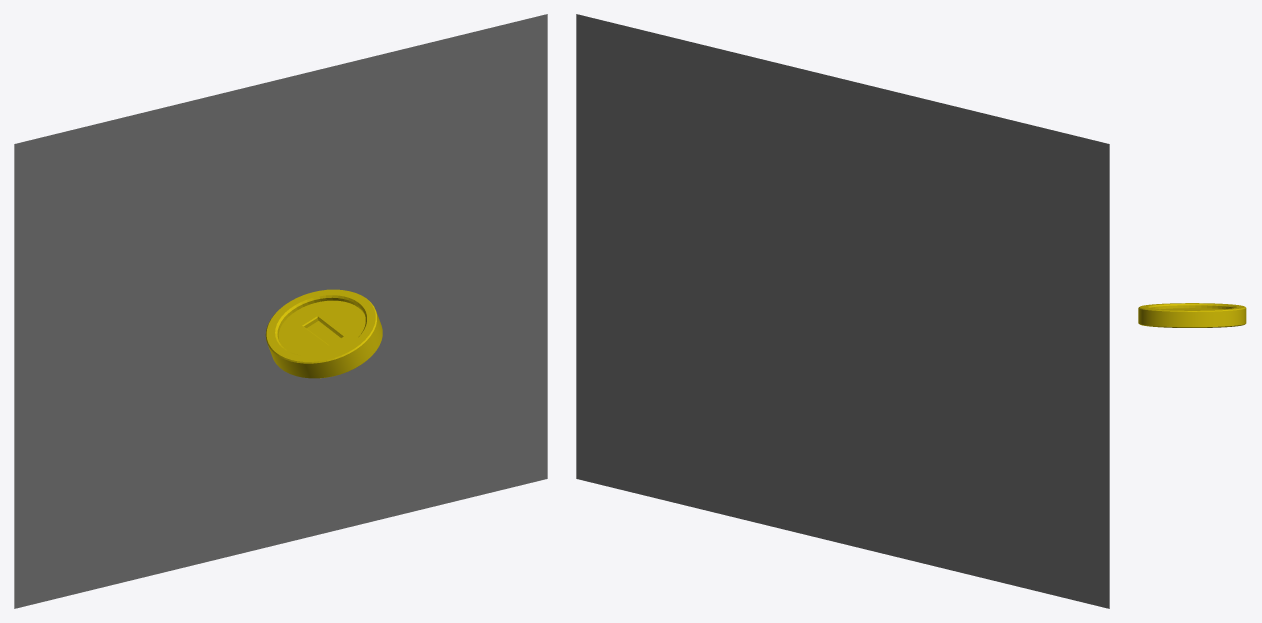
The model's file is MarioGold.fbx.
The picture shows the model from 3 angles, left to right: view 1: azimuth 30°, elevation 25°; view 2: azimuth 150°, elevation 25°; view 3: azimuth 270°, elevation 25°; orthographic projection. The views are drawn at different scales.
Parts seen in each view (by area): view 1: Plane01, Cylinder01; view 2: Plane01; view 3: Cylinder01.
Part boxes in pixels (<box>): Plane01: <box>14,14,547,608</box>; Cylinder01: <box>265,289,382,378</box>; Plane01: <box>576,14,1109,608</box>; Cylinder01: <box>1138,303,1246,327</box>.
Bounding box in the file's own units: 422 × 352 × 91.16.
